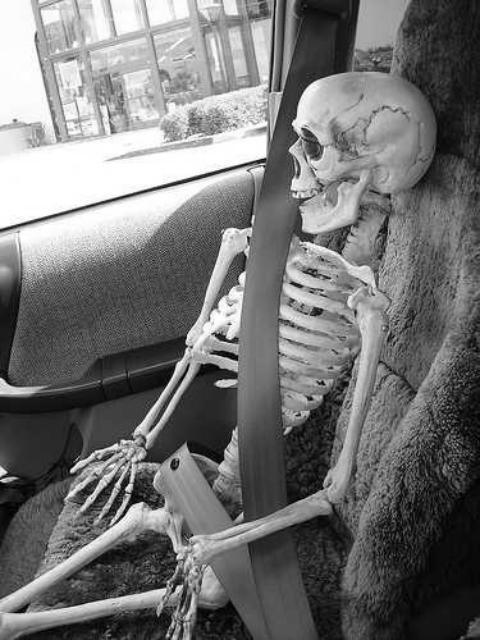Seatbelt: (158, 0, 354, 640)
